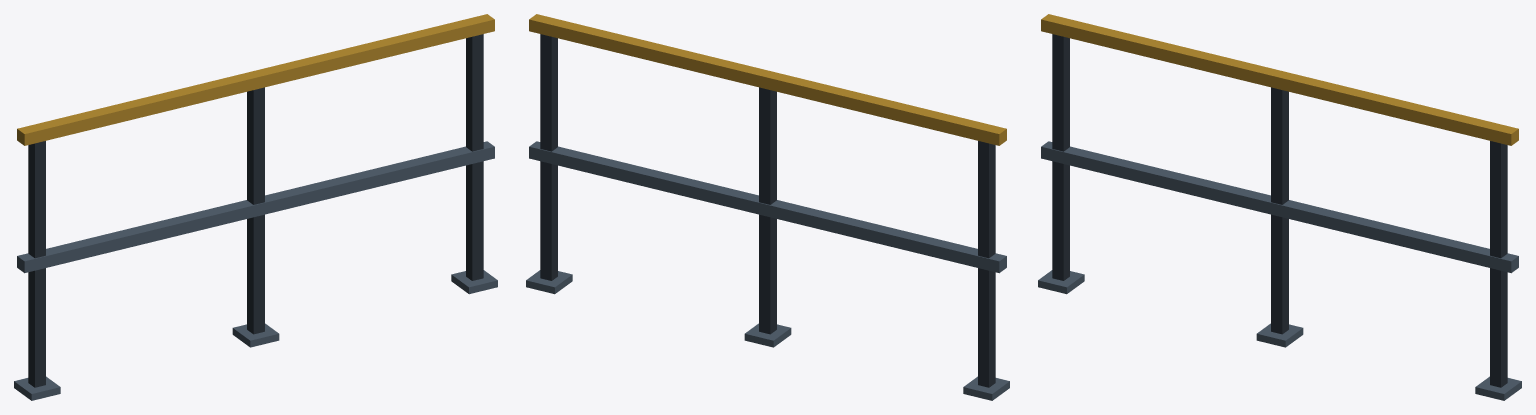
Rendered from K-14_handrail.glb.
3 views of the same model, side by side, from view 1: azimuth 30°, elevation 25°; view 2: azimuth 150°, elevation 25°; view 3: azimuth 330°, elevation 25° (orthographic).
Parts seen in each view (by area): view 1: K-14_handrail; view 2: K-14_handrail; view 3: K-14_handrail.
Boxes of the visible parts, box(x1,y1,x2,y2) form: K-14_handrail: box(14, 14, 497, 400); K-14_handrail: box(526, 14, 1009, 400); K-14_handrail: box(1038, 14, 1521, 400).
Size of the model in its own units: 2 by 1.07 by 0.13.
